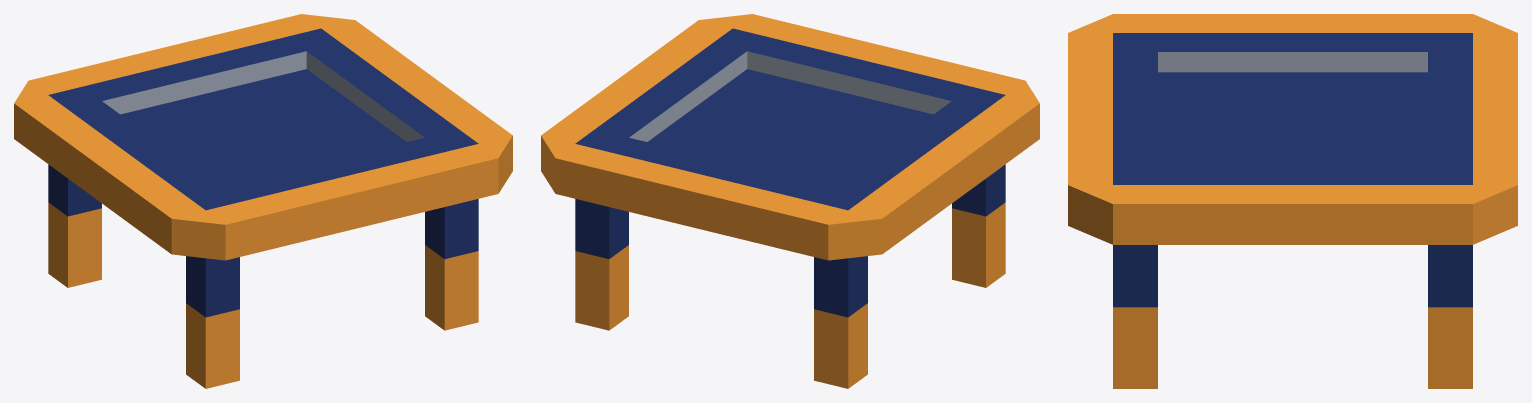
File: solar_panel.obj
The picture shows the model from 3 angles, left to right: view 1: azimuth 30°, elevation 25°; view 2: azimuth 150°, elevation 25°; view 3: azimuth 270°, elevation 25°; orthographic projection. The views are drawn at different scales.
Visible parts, largest first — view 1: platform_low; view 2: platform_low; view 3: platform_low.
Part boxes in pixels (left/top/right/bottom): platform_low: left=14, top=14, right=512, bottom=388; platform_low: left=541, top=14, right=1039, bottom=388; platform_low: left=1068, top=14, right=1517, bottom=388.
Bounding box in the file's own units: 1 × 0.5 × 1.
